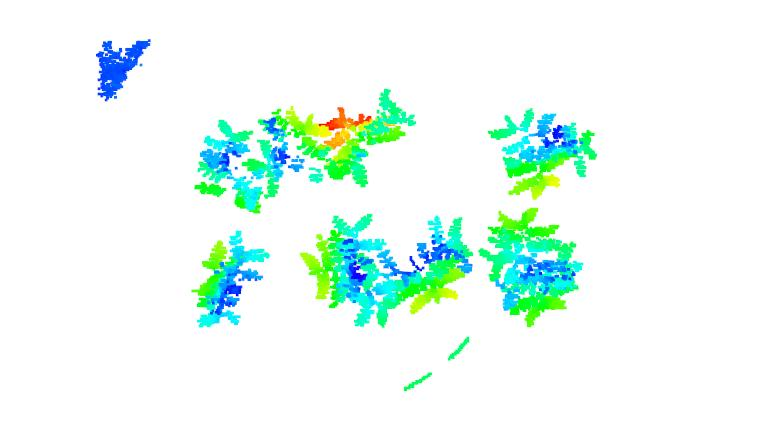chickpea: (477, 208, 586, 324), (371, 215, 474, 326), (492, 105, 602, 201), (319, 90, 417, 187), (299, 214, 389, 316), (189, 231, 270, 329), (244, 104, 329, 197), (187, 119, 264, 217)
